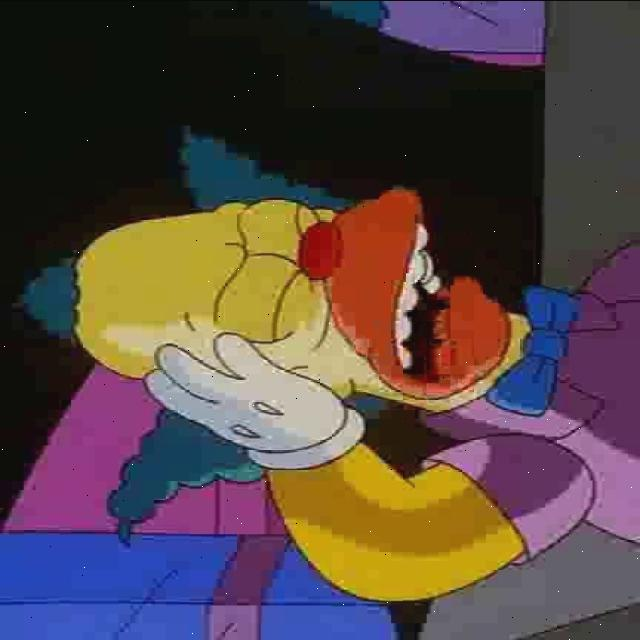Krusty the Clown: (9, 128, 536, 526)
